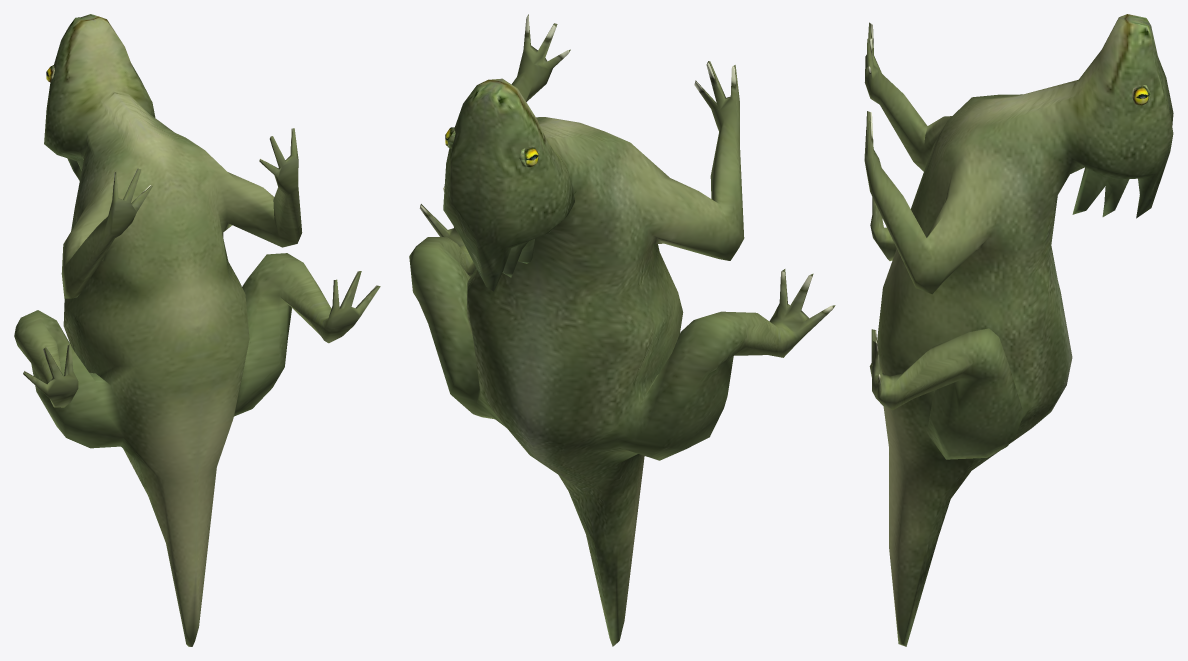
Rendered from alligator.glb.
The picture shows the model from 3 angles, left to right: view 1: azimuth 30°, elevation 25°; view 2: azimuth 150°, elevation 25°; view 3: azimuth 270°, elevation 25°; orthographic projection. The views are drawn at different scales.
Parts seen in each view (by area): view 1: Object; view 2: Object; view 3: Object.
Part boxes in pixels (x1=…): Object: x1=14, y1=14, x2=380, y2=646; Object: x1=409, y1=14, x2=835, y2=646; Object: x1=864, y1=14, x2=1173, y2=646.
Bounding box in the file's own units: 16.05 × 23.95 × 10.67.
Materials: 1 (1 with a texture image).
